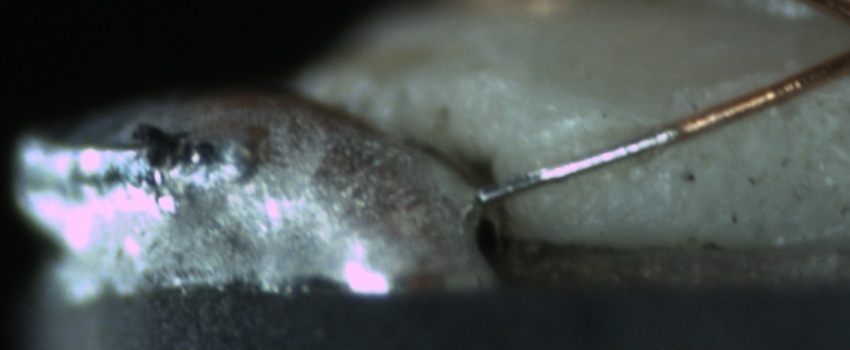TS: (473, 123, 666, 204)
TTCW: (481, 105, 709, 204)
